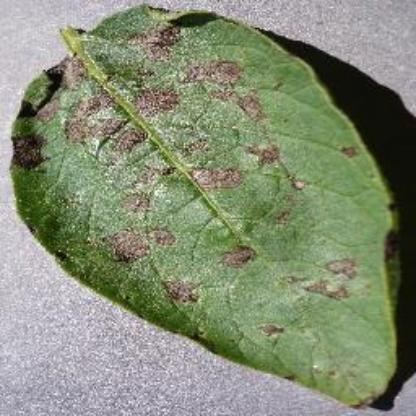Early-Blight: (12, 3, 404, 409)
